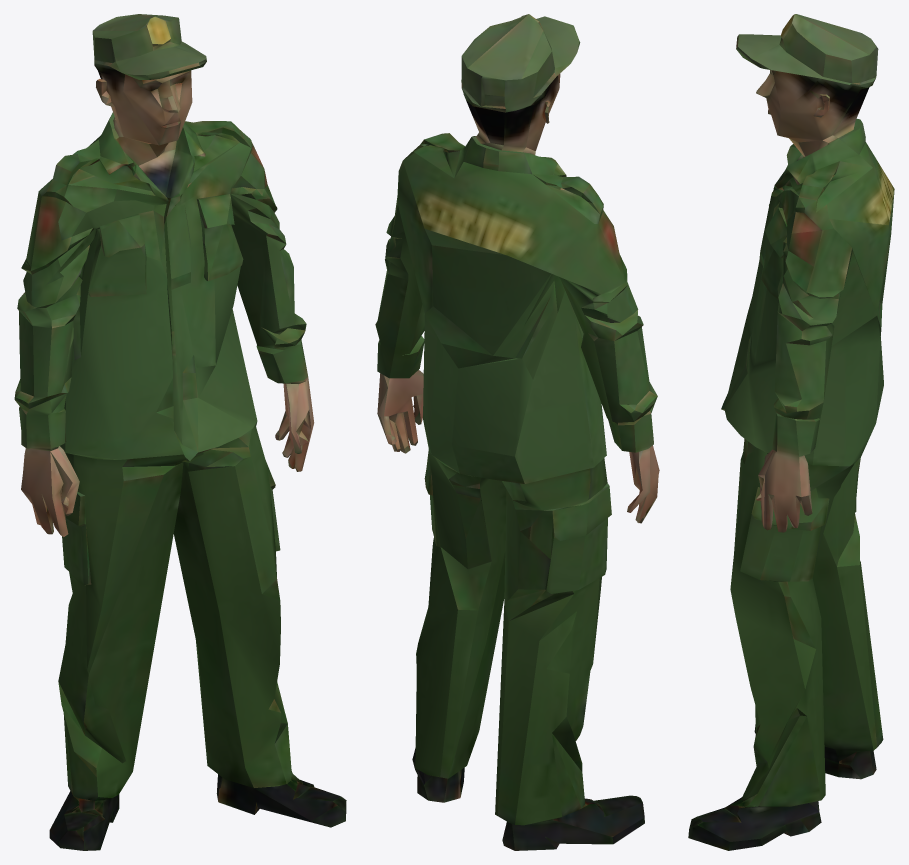
Rendered from linmas_idle_lod2.glb.
3 views of the same model, side by side, from view 1: azimuth 30°, elevation 25°; view 2: azimuth 150°, elevation 25°; view 3: azimuth 270°, elevation 25° (orthographic). The views are drawn at different scales.
Parts seen in each view (by area): view 1: tripo_node_ab156ff0; view 2: tripo_node_ab156ff0; view 3: tripo_node_ab156ff0.
Boxes of the visible parts, box(x1,y1,x2,y2) form: tripo_node_ab156ff0: box(14, 14, 346, 850); tripo_node_ab156ff0: box(375, 14, 659, 850); tripo_node_ab156ff0: box(688, 14, 894, 850).
Size of the model in its own units: 36.1 by 99.33 by 24.08.
Materials: 1 (1 with a texture image).
